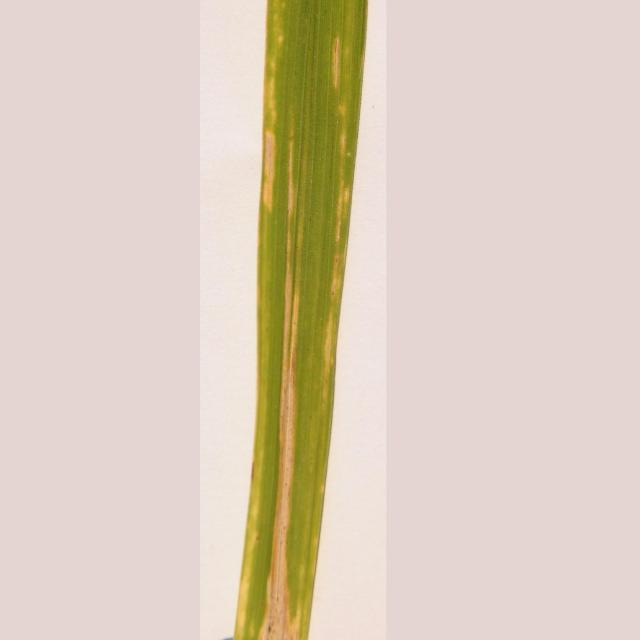leaf blight: (219, 2, 362, 640)
